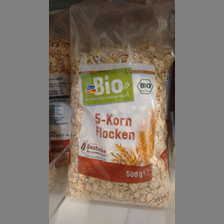cereal: (68, 6, 173, 211)
